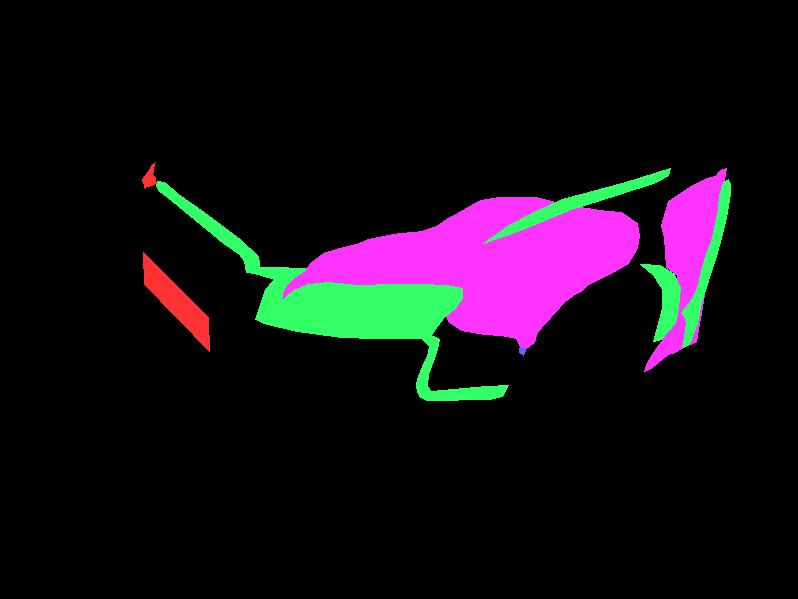Broken part: (155, 181, 412, 323), (483, 168, 670, 243), (263, 282, 462, 338), (681, 179, 730, 347), (416, 336, 508, 400), (640, 264, 680, 341)
Dent: (282, 197, 639, 348), (644, 168, 726, 371)
Missing part: (143, 252, 209, 351), (142, 162, 156, 188)
Scratch: (390, 224, 632, 283), (519, 326, 540, 355), (526, 304, 547, 317)
